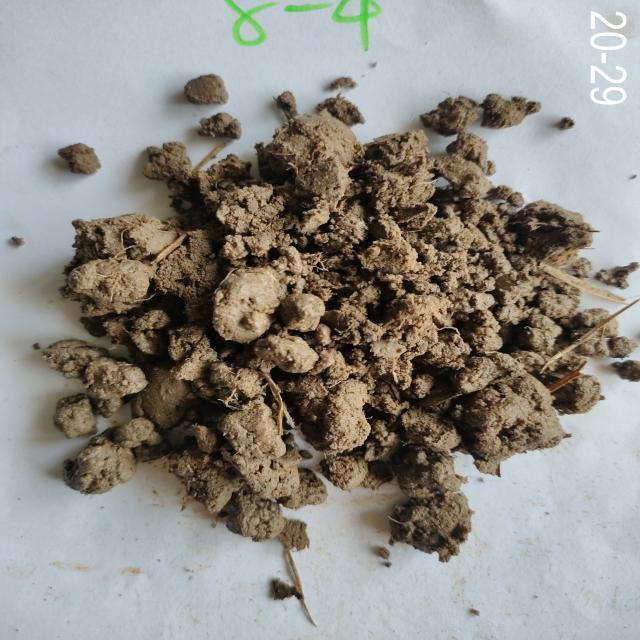soil: (196, 186, 487, 426)
